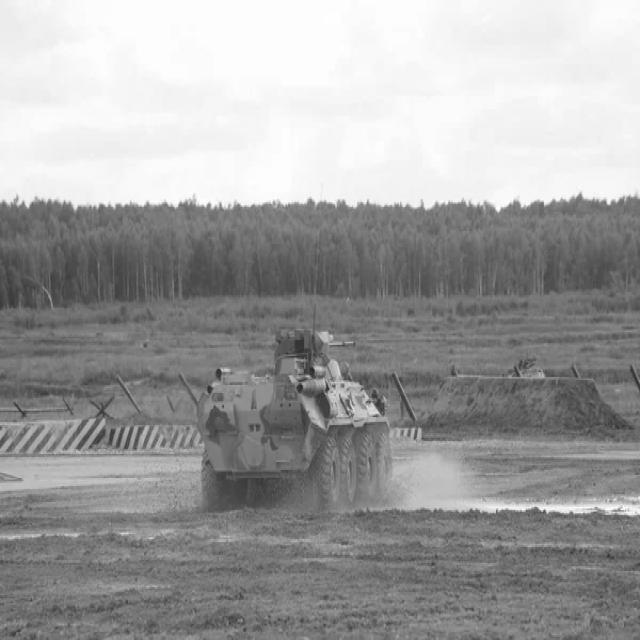Tank: (188, 319, 418, 515)
